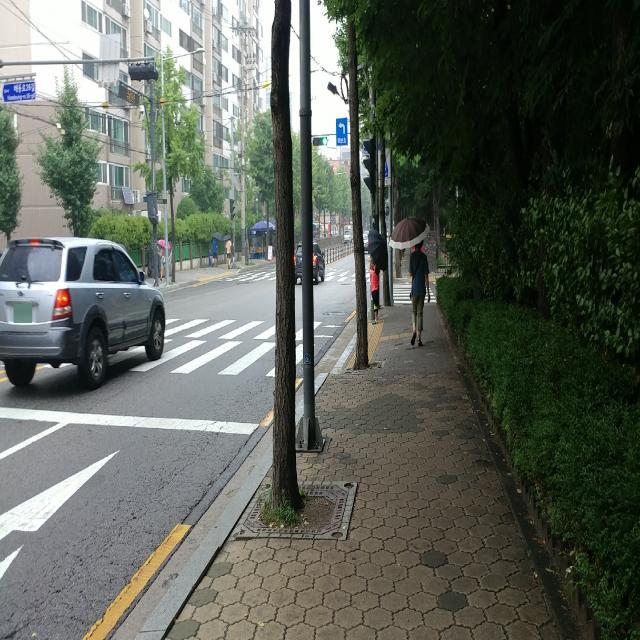횡단보도: (133, 317, 303, 375), (393, 282, 437, 304)
